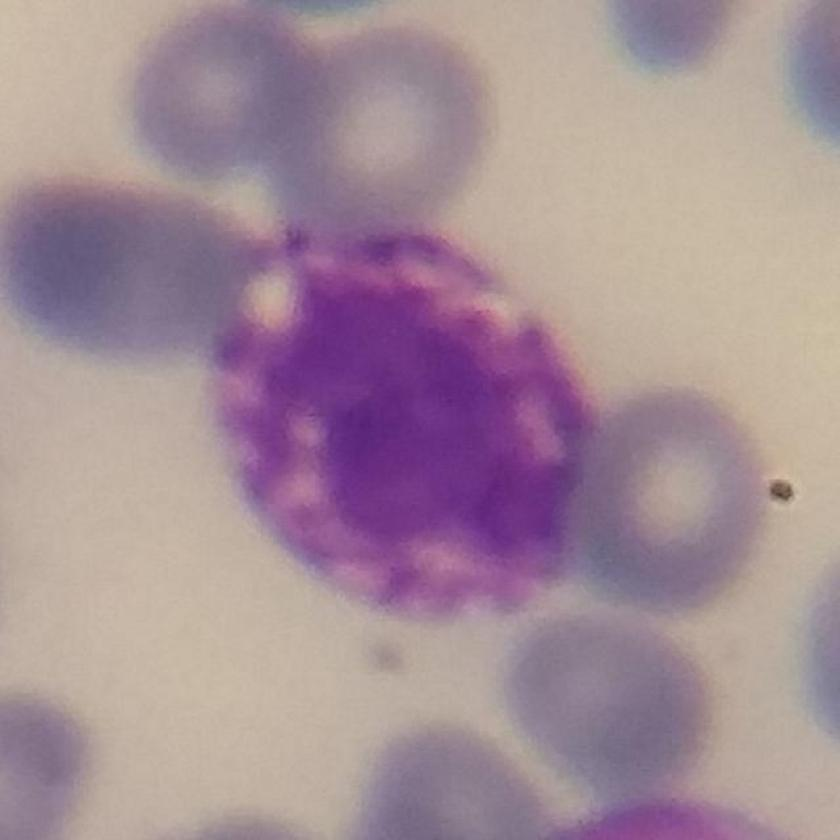basophil: (203, 199, 607, 635)
